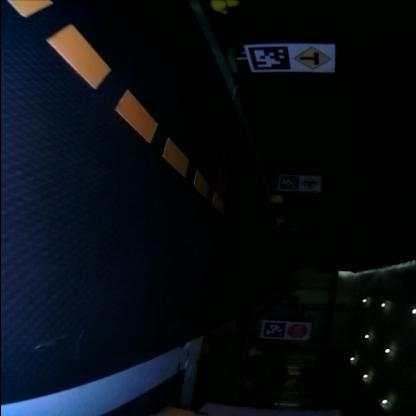Duckie: (211, 1, 238, 13), (272, 196, 284, 204), (250, 350, 262, 356)
Intersection sign: (295, 46, 332, 70), (303, 178, 319, 190)
QR code: (247, 45, 291, 71), (262, 322, 284, 340), (279, 177, 298, 190)
Stop sign: (288, 323, 308, 340)
